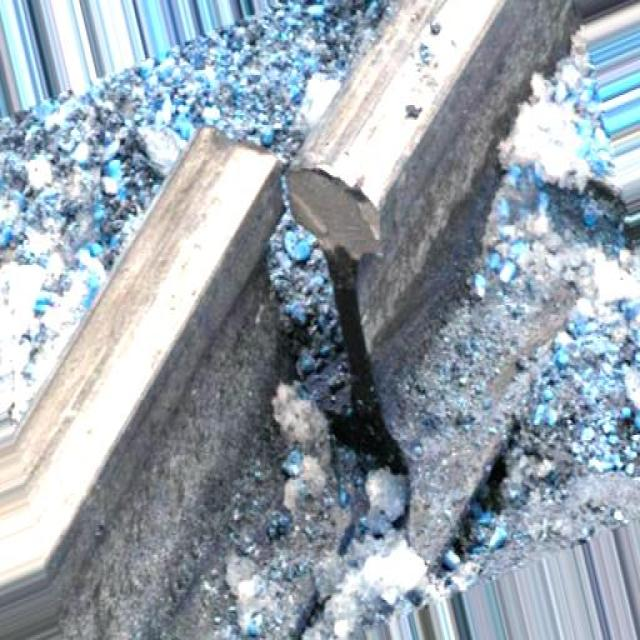crack: (184, 41, 502, 631)
